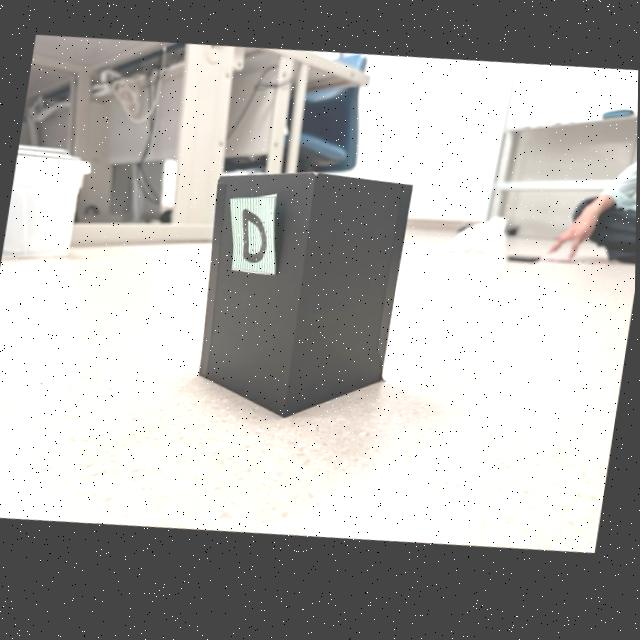D: (243, 213, 268, 266)
